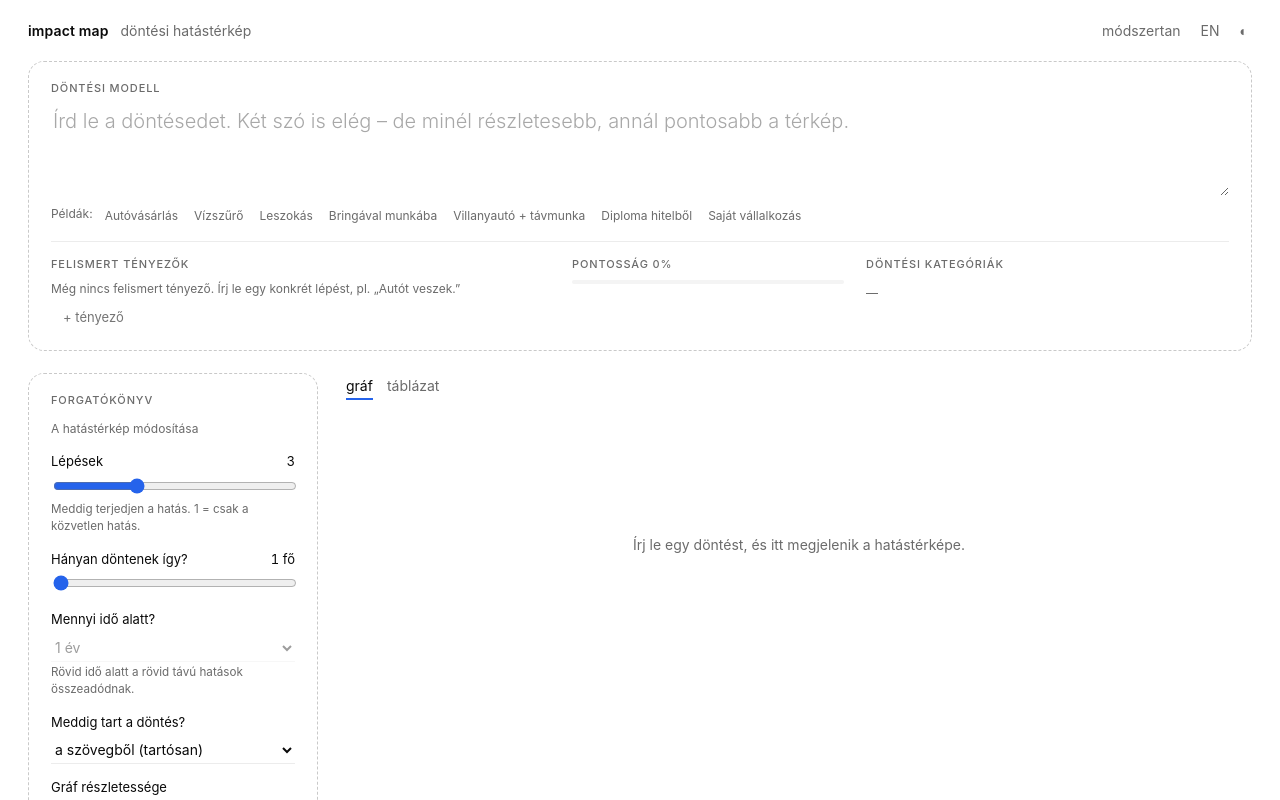
Test case: App › switches the language
This screenshot has width=1280, height=800.
Click the button with aria-label "language" at [1210, 30], box [1197, 18, 1224, 43]
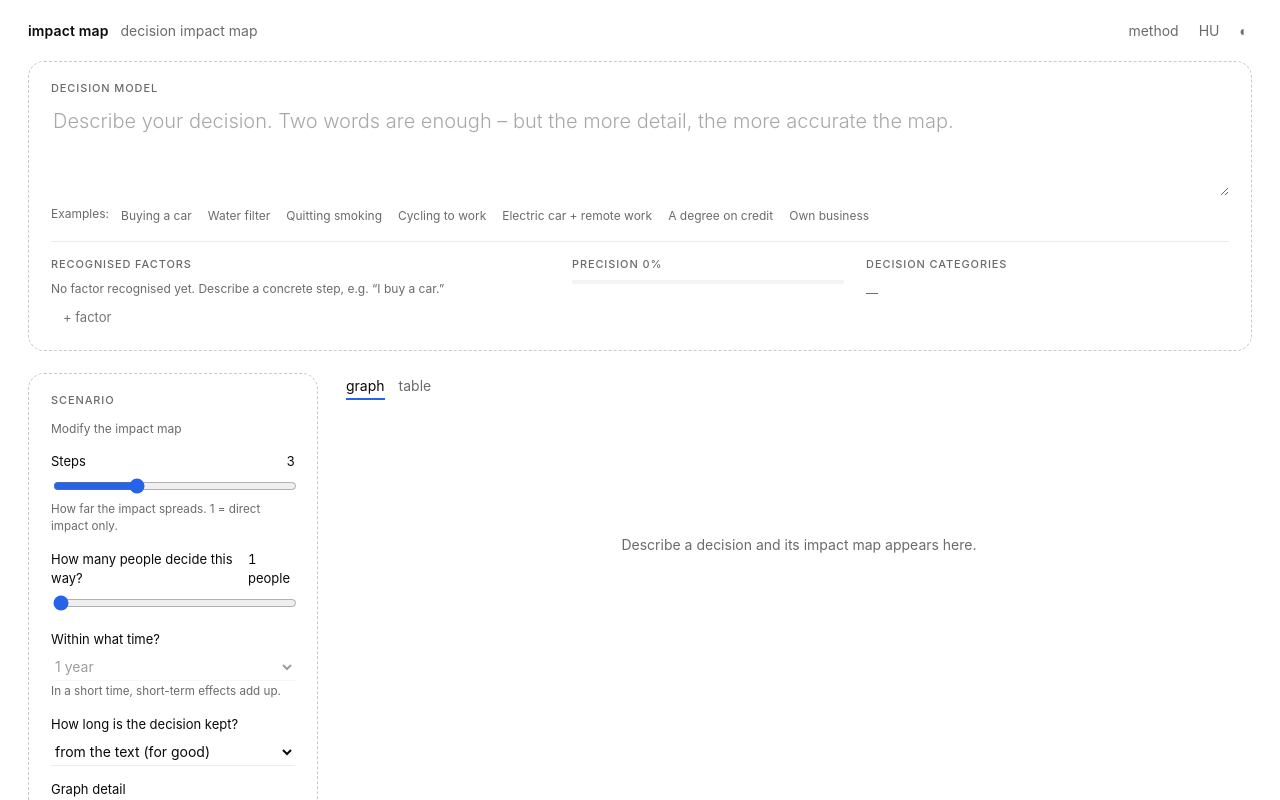
Check: the text box named "Decision model" is shown, box [51, 104, 1229, 196]
